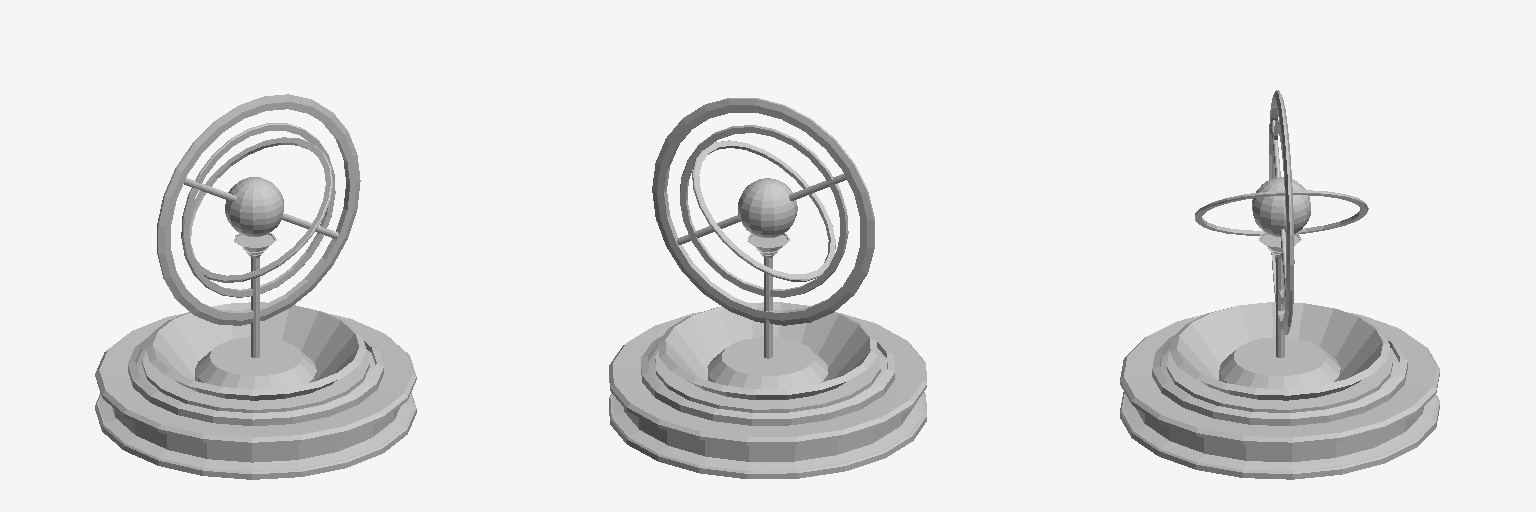
File: orery.obj
3 views of the same model, side by side, from view 1: azimuth 30°, elevation 25°; view 2: azimuth 150°, elevation 25°; view 3: azimuth 270°, elevation 25° (orthographic).
Visible parts, largest first — view 1: onderkant_orrery_onderkant_orrery, hoepelverticaal2_hoepelverticaal2, hoepel_horizontaal3_hoepel_horizontaal3, middenbal_orrery_middenbal_orrery, hoepel_horizontaal_hoepel_horizontaal, steel_orrery_steel_orrery, pCylinder3_pCylinder3; view 2: onderkant_orrery_onderkant_orrery, hoepelverticaal2_hoepelverticaal2, hoepel_horizontaal3_hoepel_horizontaal3, hoepel_horizontaal_hoepel_horizontaal, middenbal_orrery_middenbal_orrery, steel_orrery_steel_orrery, pCylinder3_pCylinder3; view 3: onderkant_orrery_onderkant_orrery, hoepelverticaal2_hoepelverticaal2, middenbal_orrery_middenbal_orrery, hoepel_horizontaal_hoepel_horizontaal, steel_orrery_steel_orrery.
Part boxes in pixels (left/top/right/bottom): onderkant_orrery_onderkant_orrery: left=95, top=302, right=416, bottom=479; hoepelverticaal2_hoepelverticaal2: left=157, top=94, right=360, bottom=325; hoepel_horizontaal3_hoepel_horizontaal3: left=181, top=123, right=335, bottom=297; middenbal_orrery_middenbal_orrery: left=225, top=177, right=283, bottom=236; hoepel_horizontaal_hoepel_horizontaal: left=189, top=137, right=332, bottom=282; steel_orrery_steel_orrery: left=234, top=233, right=276, bottom=357; pCylinder3_pCylinder3: left=184, top=178, right=338, bottom=238; onderkant_orrery_onderkant_orrery: left=609, top=302, right=926, bottom=478; hoepelverticaal2_hoepelverticaal2: left=652, top=98, right=874, bottom=325; hoepel_horizontaal3_hoepel_horizontaal3: left=680, top=125, right=848, bottom=297; hoepel_horizontaal_hoepel_horizontaal: left=692, top=140, right=835, bottom=281; middenbal_orrery_middenbal_orrery: left=738, top=178, right=797, bottom=237; steel_orrery_steel_orrery: left=747, top=233, right=789, bottom=358; pCylinder3_pCylinder3: left=677, top=174, right=846, bottom=244; onderkant_orrery_onderkant_orrery: left=1120, top=302, right=1439, bottom=479; hoepelverticaal2_hoepelverticaal2: left=1269, top=90, right=1294, bottom=334; middenbal_orrery_middenbal_orrery: left=1252, top=177, right=1310, bottom=236; hoepel_horizontaal_hoepel_horizontaal: left=1195, top=190, right=1368, bottom=235; steel_orrery_steel_orrery: left=1259, top=232, right=1301, bottom=357.
Size of the model in its own units: 3.48 by 3.74 by 3.48.